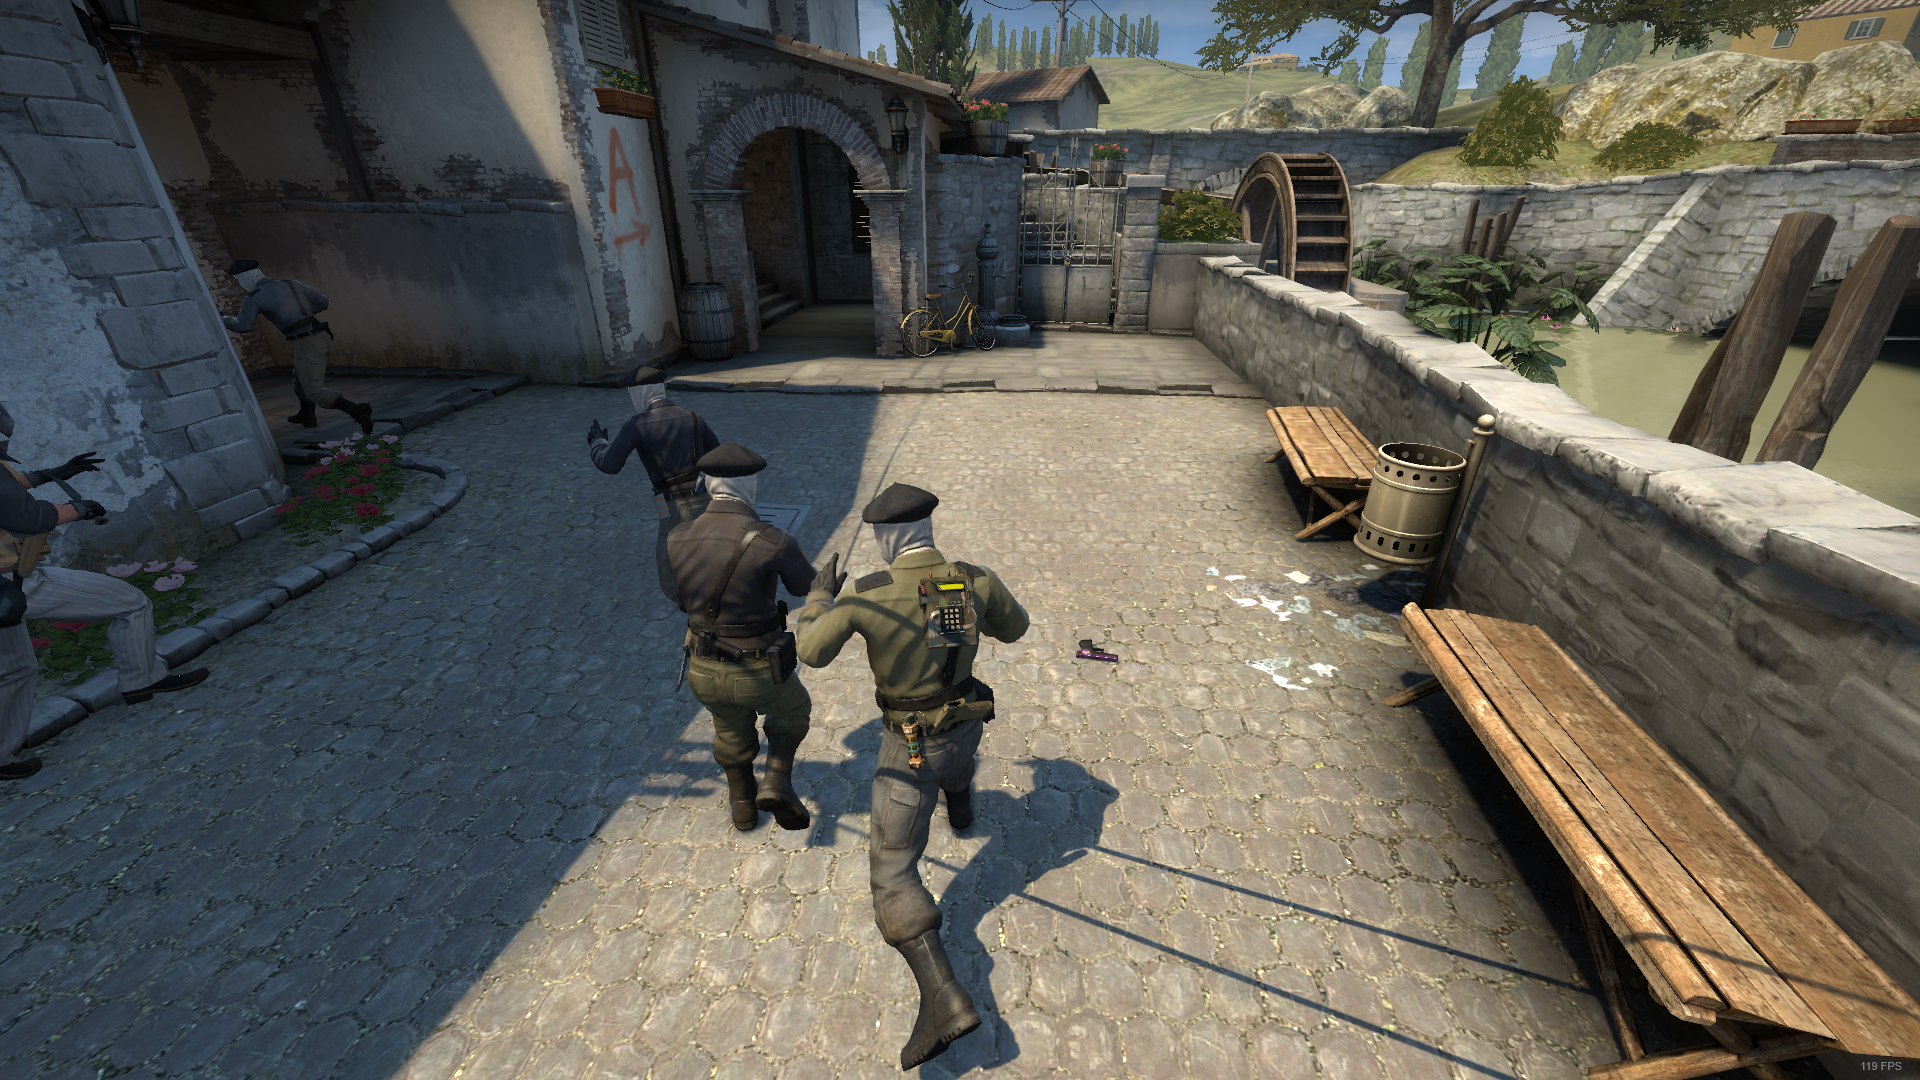t: (795, 483, 1033, 1071), (666, 444, 819, 835), (214, 260, 377, 440), (588, 364, 709, 510)
